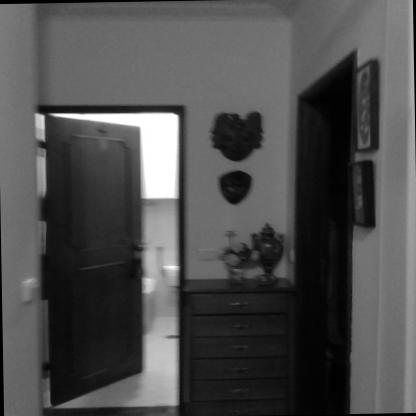semi: (23, 97, 200, 411)
